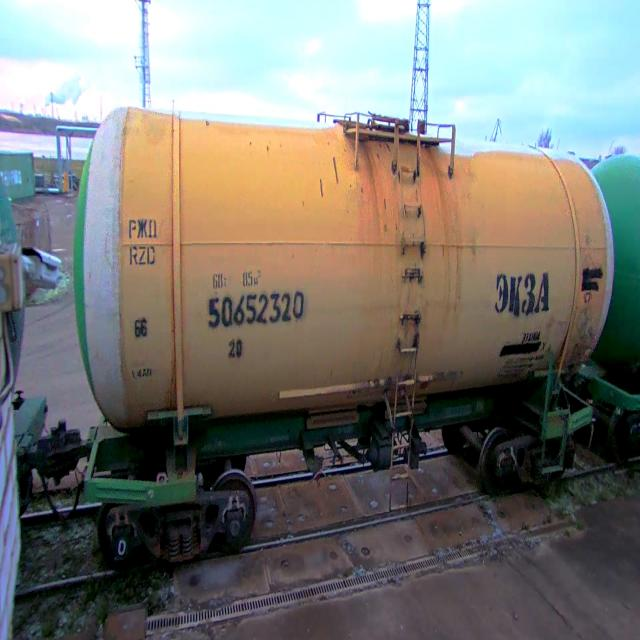tank: (65, 93, 618, 575), (588, 131, 640, 468)
